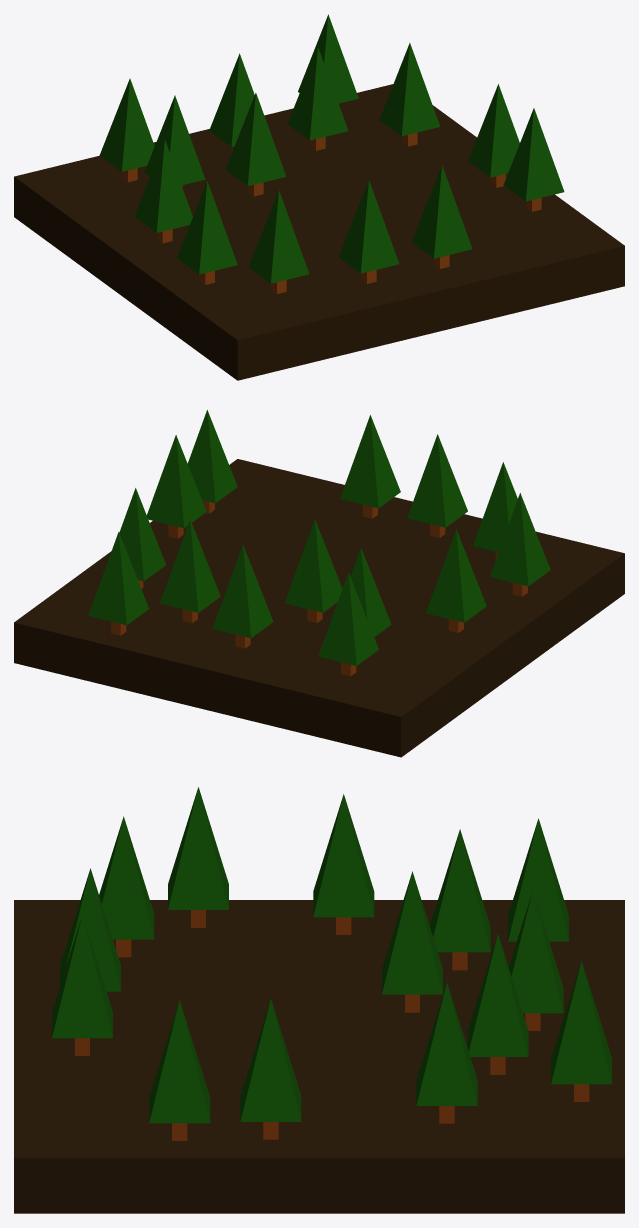
Rendered from Forest3.obj.
3 views of the same model, one above another, from view 1: azimuth 30°, elevation 25°; view 2: azimuth 150°, elevation 25°; view 3: azimuth 270°, elevation 25° (orthographic). The views are drawn at different scales.
Visible parts, largest first — view 1: Tilebase142, Pyramid394, Pyramid411, Pyramid414, Pyramid400, Pyramid401, Pyramid409, Pyramid415, Pyramid398, Pyramid405, Pyramid404, Pyramid407 (+3 smaller); view 2: Tilebase142, Pyramid414, Pyramid400, Pyramid405, Pyramid411, Pyramid402, Pyramid413, Pyramid415, Pyramid404, Pyramid407, Pyramid401, Pyramid409 (+3 smaller); view 3: Tilebase142, Pyramid405, Pyramid409, Pyramid411, Pyramid413, Pyramid398, Pyramid407, Pyramid401, Pyramid400, Pyramid414, Pyramid403, Pyramid394 (+3 smaller).
Boxes of the visible parts, bbox=[...] form: Tilebase142: bbox=[14, 84, 624, 380]; Pyramid394: bbox=[248, 190, 309, 283]; Pyramid411: bbox=[411, 165, 472, 258]; Pyramid414: bbox=[177, 181, 237, 274]; Pyramid400: bbox=[287, 47, 348, 140]; Pyramid401: bbox=[225, 93, 286, 185]; Pyramid409: bbox=[503, 108, 564, 201]; Pyramid415: bbox=[338, 180, 399, 273]; Pyramid398: bbox=[379, 43, 440, 136]; Pyramid405: bbox=[134, 139, 192, 232]; Pyramid404: bbox=[99, 78, 154, 171]; Pyramid407: bbox=[468, 84, 519, 177]; Tilebase142: bbox=[14, 459, 624, 757]; Pyramid414: bbox=[490, 493, 550, 586]; Pyramid400: bbox=[160, 519, 220, 612]; Pyramid405: bbox=[426, 529, 486, 622]; Pyramid411: bbox=[340, 415, 400, 508]; Pyramid402: bbox=[212, 545, 273, 637]; Pyramid413: bbox=[88, 532, 148, 625]; Pyramid415: bbox=[407, 434, 467, 527]; Pyramid404: bbox=[318, 572, 378, 665]; Pyramid407: bbox=[147, 435, 206, 528]; Pyramid401: bbox=[284, 519, 342, 612]; Pyramid409: bbox=[187, 410, 237, 503]; Tilebase142: bbox=[14, 900, 624, 1213]; Pyramid405: bbox=[313, 794, 374, 917]; Pyramid409: bbox=[149, 1000, 210, 1123]; Pyramid411: bbox=[52, 915, 112, 1038]; Pyramid413: bbox=[551, 961, 611, 1084]; Pyramid398: bbox=[416, 983, 477, 1105]; Pyramid407: bbox=[240, 999, 301, 1121]; Pyramid401: bbox=[382, 871, 442, 994]; Pyramid400: bbox=[467, 934, 528, 1056]; Pyramid414: bbox=[168, 787, 228, 909]; Pyramid403: bbox=[429, 829, 490, 952]; Pyramid394: bbox=[99, 816, 154, 939].
Bounding box in the file's own units: 10 × 3.5 × 10.
